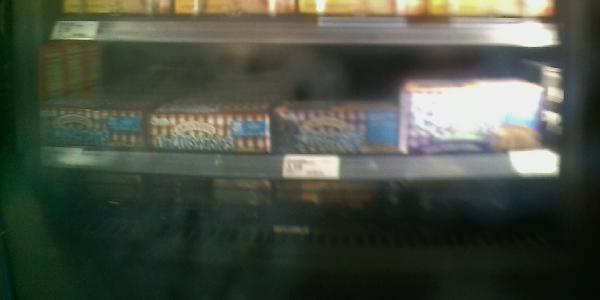icecream: (402, 74, 546, 155), (275, 102, 409, 154), (35, 100, 151, 152), (150, 107, 272, 155)
